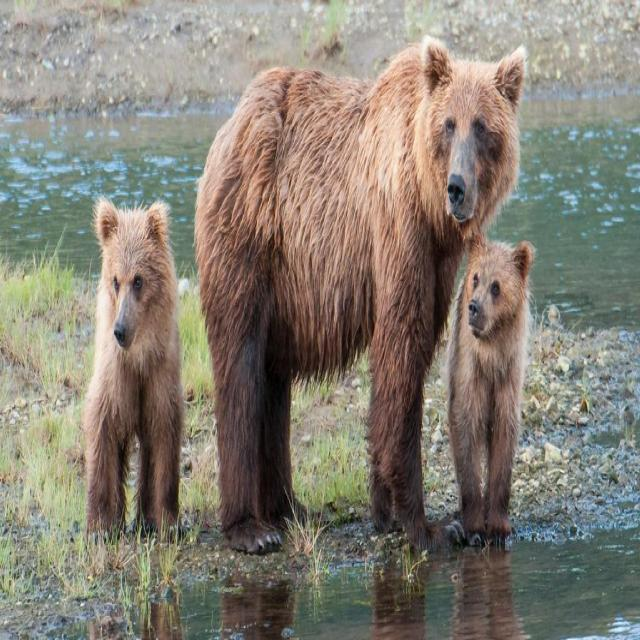Bear: (194, 40, 526, 556), (81, 199, 186, 534), (449, 240, 537, 551)
